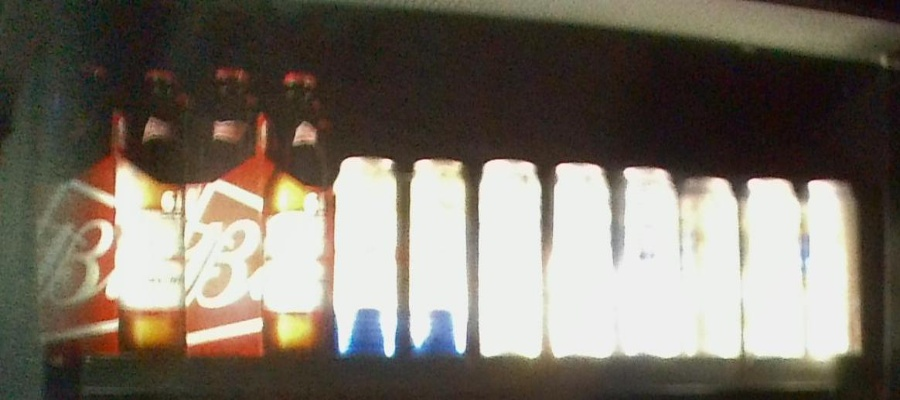bottle: (39, 54, 182, 363), (478, 151, 680, 367), (181, 63, 325, 362), (680, 169, 866, 356), (327, 147, 477, 357)
